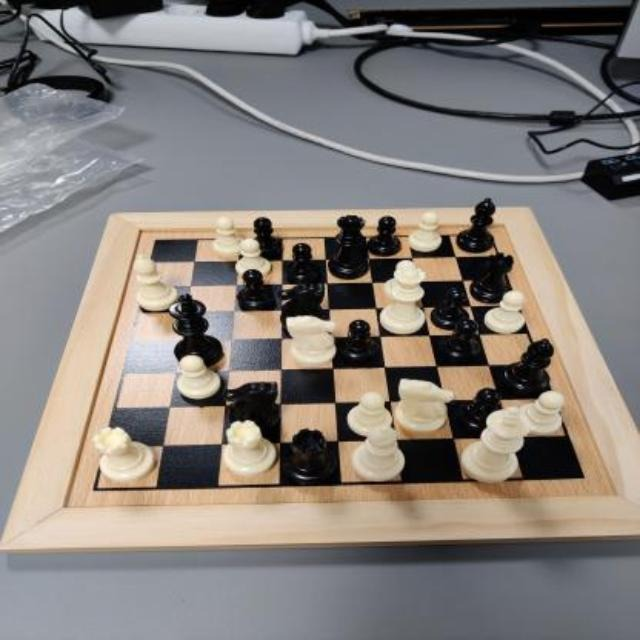black-bishop: (500, 339, 555, 395), (455, 197, 495, 252)
black-king: (169, 294, 223, 369)
black-knight: (223, 381, 281, 433), (276, 282, 325, 334)
black-pawn: (456, 388, 506, 434), (337, 319, 378, 363), (439, 319, 481, 361), (429, 287, 470, 330), (238, 269, 274, 310), (285, 242, 321, 282), (368, 216, 402, 256), (250, 217, 283, 257)
black-queen: (328, 215, 369, 279)
black-rook: (281, 428, 339, 484), (469, 252, 516, 304)
white-bishop: (351, 425, 405, 481), (132, 254, 179, 312)
white-king: (460, 407, 532, 483)
white-knight: (396, 378, 454, 434), (286, 316, 338, 368)
white-pawn: (519, 391, 566, 435), (177, 356, 223, 400), (348, 392, 392, 436), (484, 289, 526, 335), (383, 260, 421, 302), (407, 211, 442, 252), (211, 216, 246, 257), (237, 239, 273, 277)
white-queen: (380, 266, 426, 335)
white-rook: (93, 427, 156, 483), (223, 420, 277, 476)
